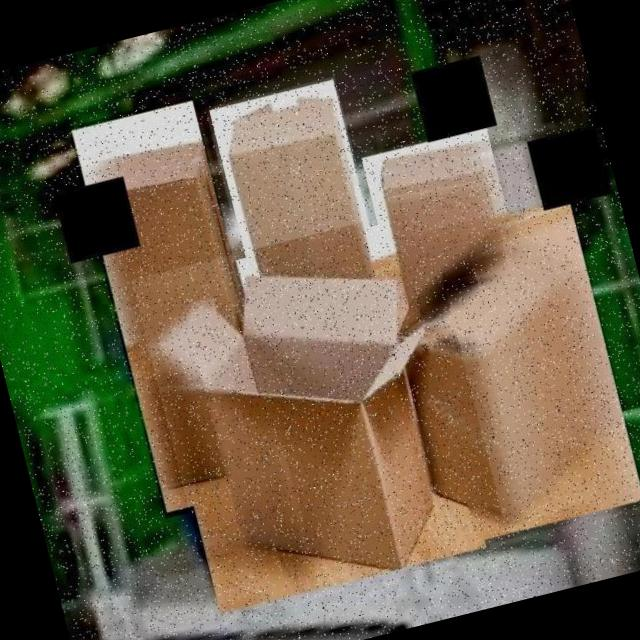box: (131, 210, 492, 620), (361, 195, 640, 556), (67, 96, 290, 518), (205, 76, 388, 326), (360, 125, 526, 316)
